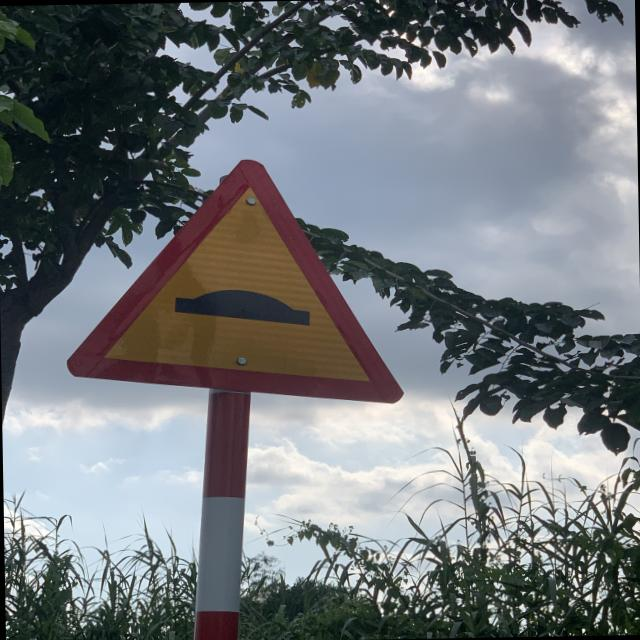Duong_Cong_Ben_Phai: (59, 153, 406, 410)
